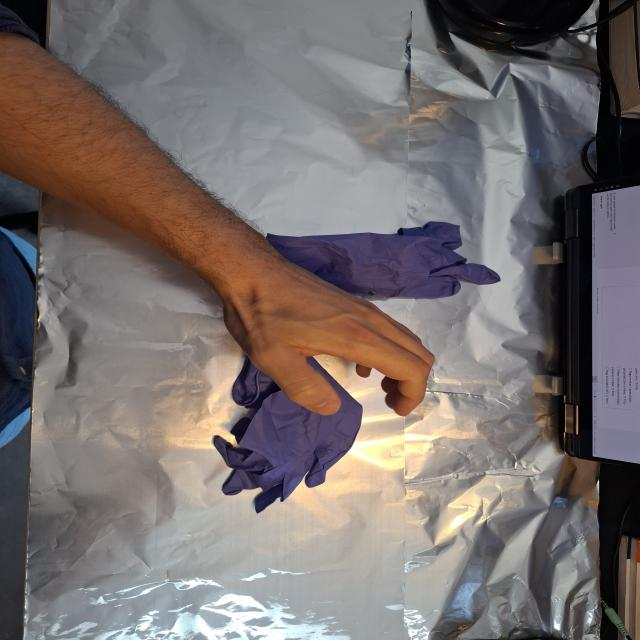glove_off: (219, 242, 439, 419)
